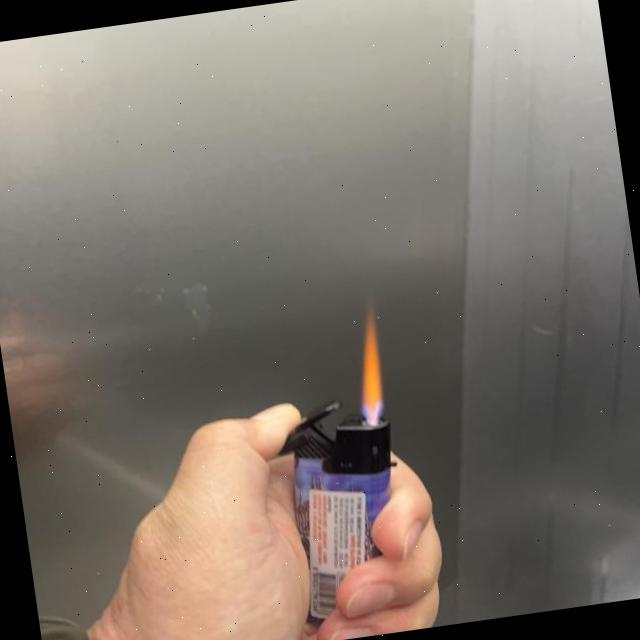fire: (345, 314, 390, 422)
